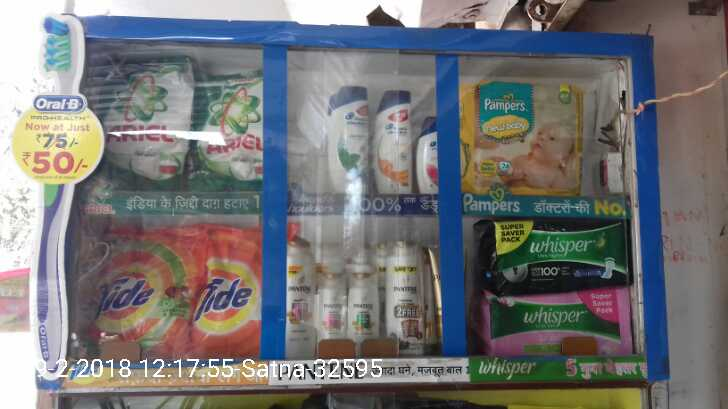beauty: (326, 82, 372, 195), (383, 239, 423, 352), (282, 236, 319, 352), (376, 84, 413, 193), (349, 259, 380, 352), (316, 270, 348, 352), (413, 110, 440, 197)
home: (81, 219, 191, 364), (92, 56, 191, 191), (190, 226, 264, 361), (189, 69, 263, 194)
pharmacy: (468, 74, 587, 197), (485, 213, 632, 290), (480, 288, 633, 358)
